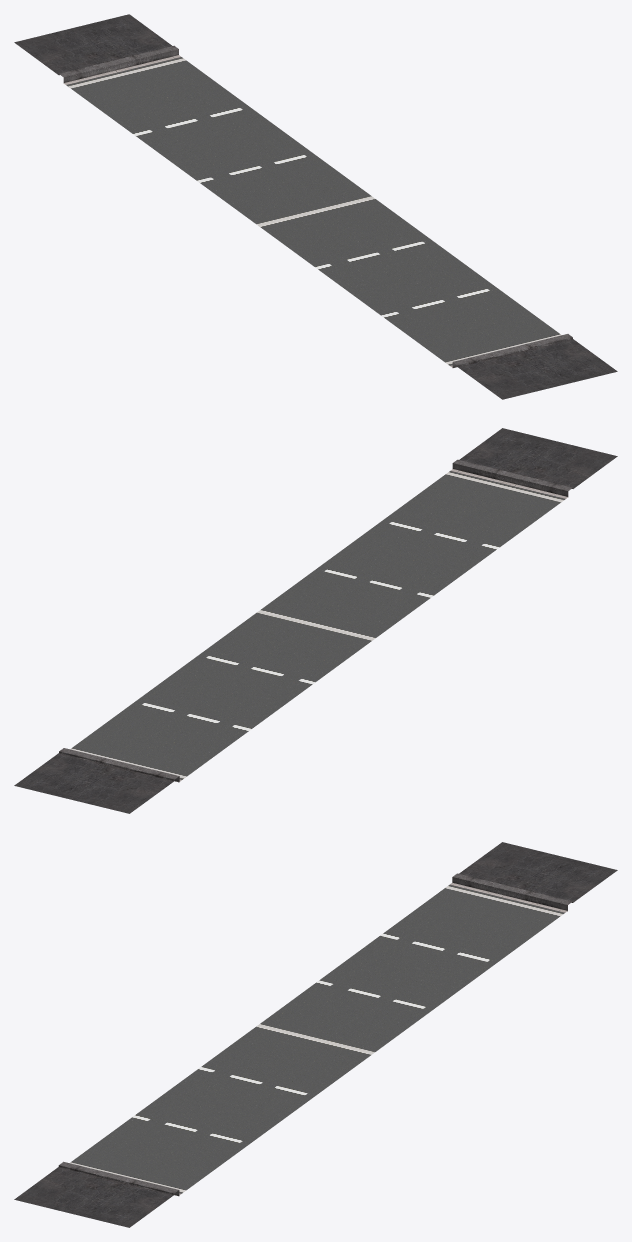
File: 6 lines half_mobile.FBX
The picture shows the model from 3 angles, top to bottom: view 1: azimuth 30°, elevation 25°; view 2: azimuth 150°, elevation 25°; view 3: azimuth 330°, elevation 25°; orthographic projection.
Parts seen in each view (by area): view 1: Object125; view 2: Object125; view 3: Object125.
Part boxes in pixels (x1,y1,x2,y2): Object125: (14,14,617,399); Object125: (14,428,617,813); Object125: (14,842,617,1227).
Size of the model in its own units: 6.03 by 0.3184 by 43.96.
